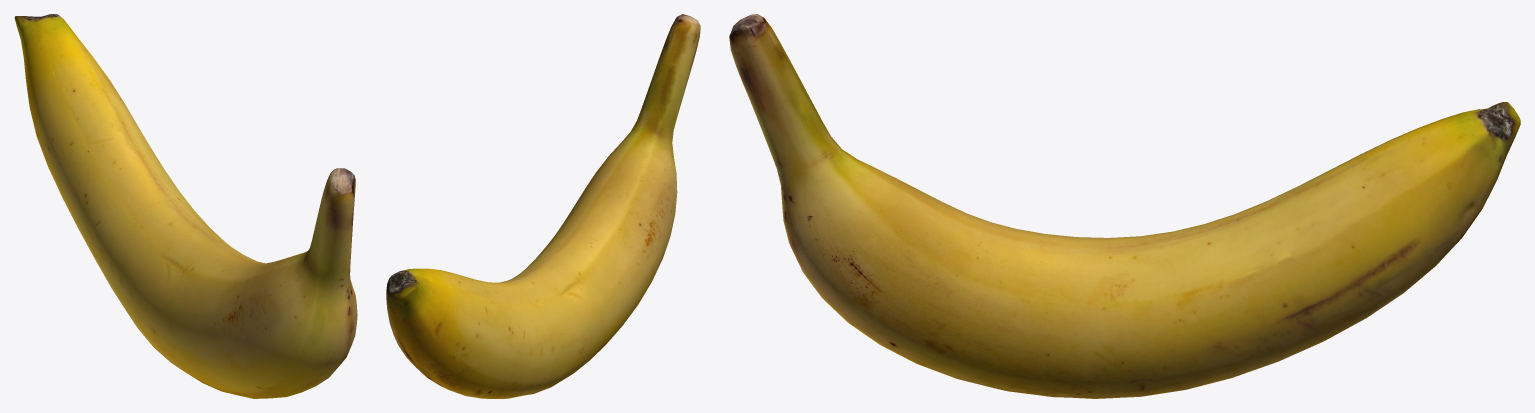
The model's file is banana.glb.
The picture shows the model from 3 angles, left to right: view 1: azimuth 30°, elevation 25°; view 2: azimuth 150°, elevation 25°; view 3: azimuth 270°, elevation 25°; orthographic projection. The views are drawn at different scales.
Parts seen in each view (by area): view 1: Object_2; view 2: Object_2; view 3: Object_2.
Boxes of the visible parts, x1,y1,x2,y2 form: Object_2: [14, 14, 357, 398]; Object_2: [386, 14, 700, 398]; Object_2: [729, 14, 1520, 398].
Bounding box in the file's own units: 0.0357 × 0.1023 × 0.198.
1 material, 1 textured.
